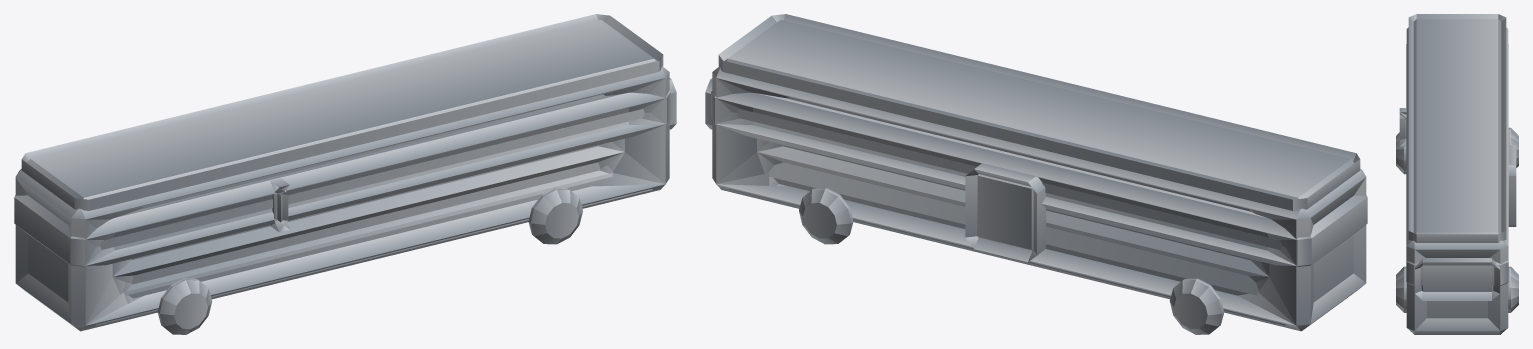
File: dt_city_bus.fbx
3 renders of one model, left to right at view 1: azimuth 30°, elevation 25°; view 2: azimuth 150°, elevation 25°; view 3: azimuth 270°, elevation 25°, orthographic. The views are drawn at different scales.
Visible parts, largest first — view 1: dt_city_bus; view 2: dt_city_bus; view 3: dt_city_bus.
Part boxes in pixels (box(x1,y1,x2,y2)): dt_city_bus: box(14, 14, 676, 334); dt_city_bus: box(705, 14, 1367, 334); dt_city_bus: box(1396, 14, 1518, 334).
Size of the model in its own units: 2500 by 614 by 572.
